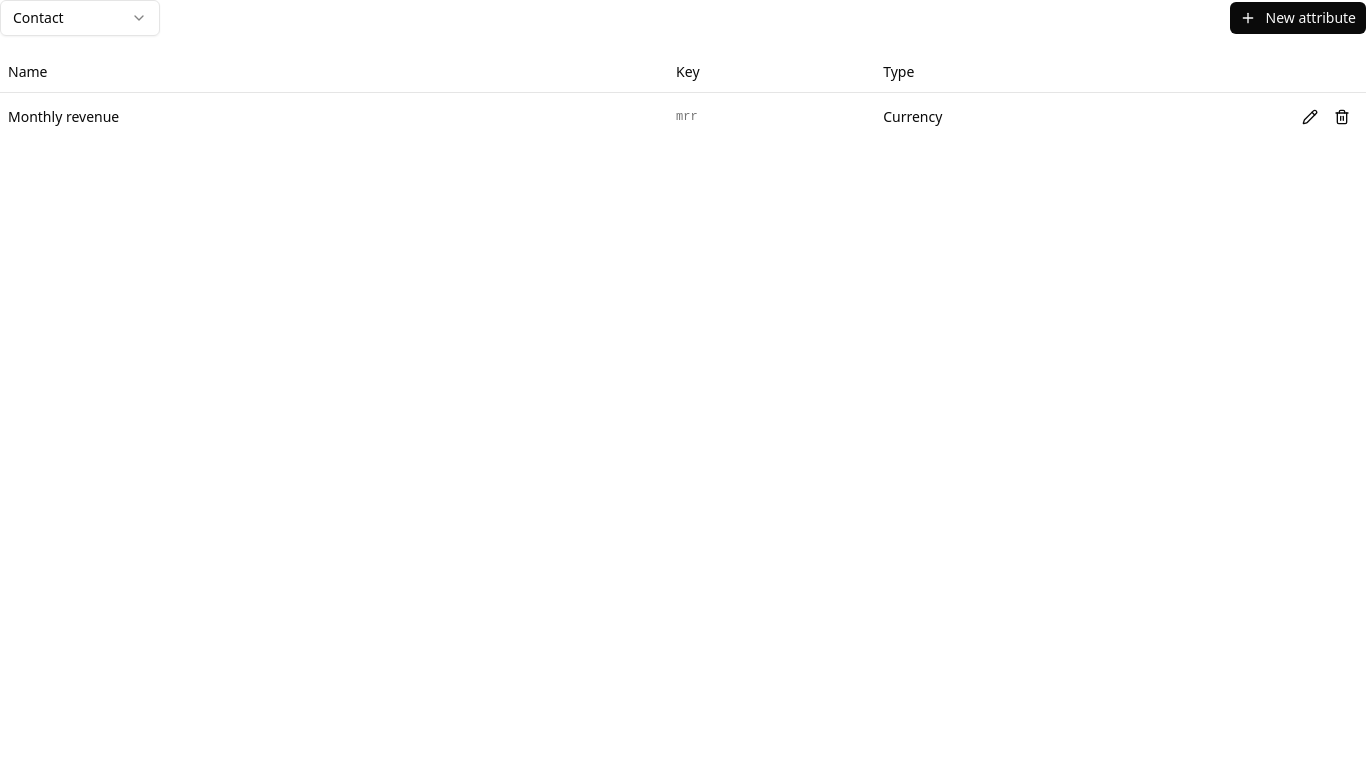
it: AttributesPanel › locks the key when editing an existing definition
The image size is (1366, 768).
Step 1. Click the button named "edit monthly revenue" → x=1310, y=116, box [1294,100,1326,132]
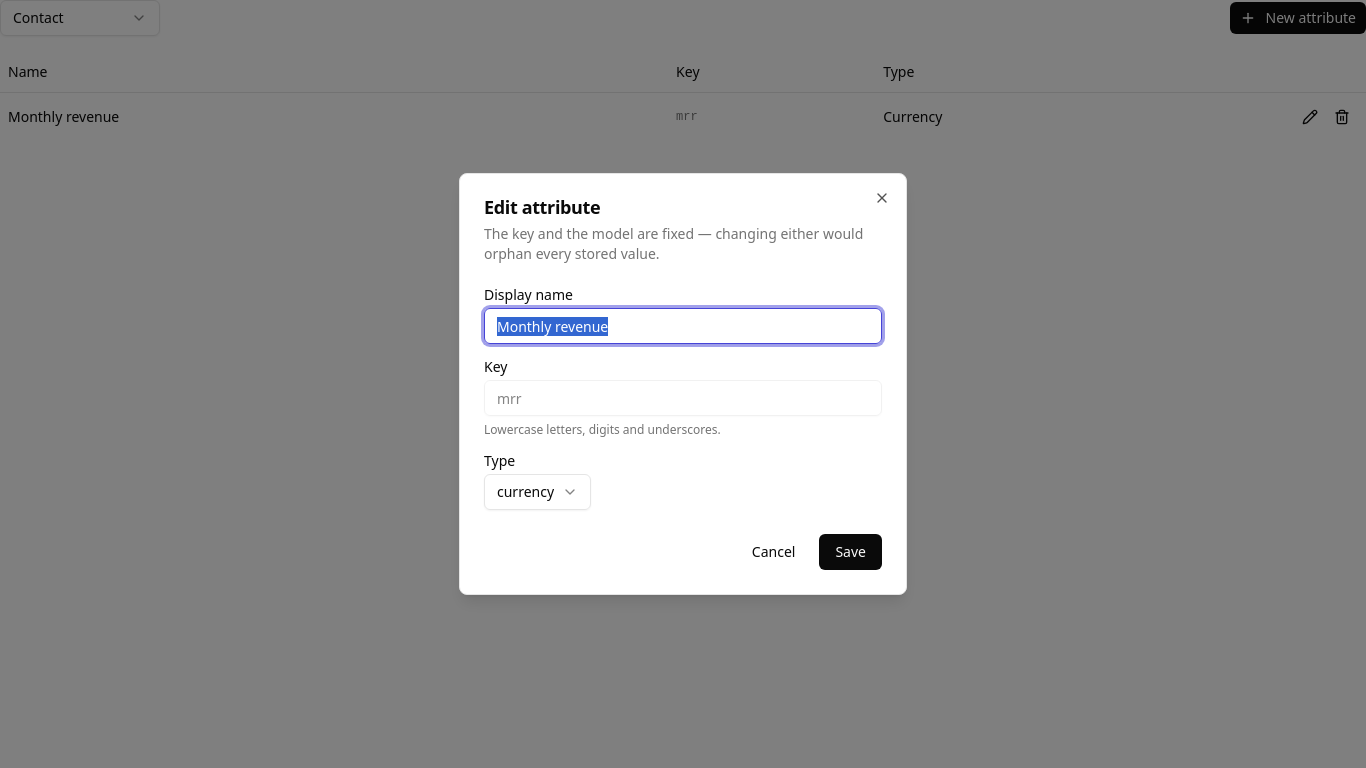
Now the field labelled "Key" is disabled, box [484,380,882,416]
